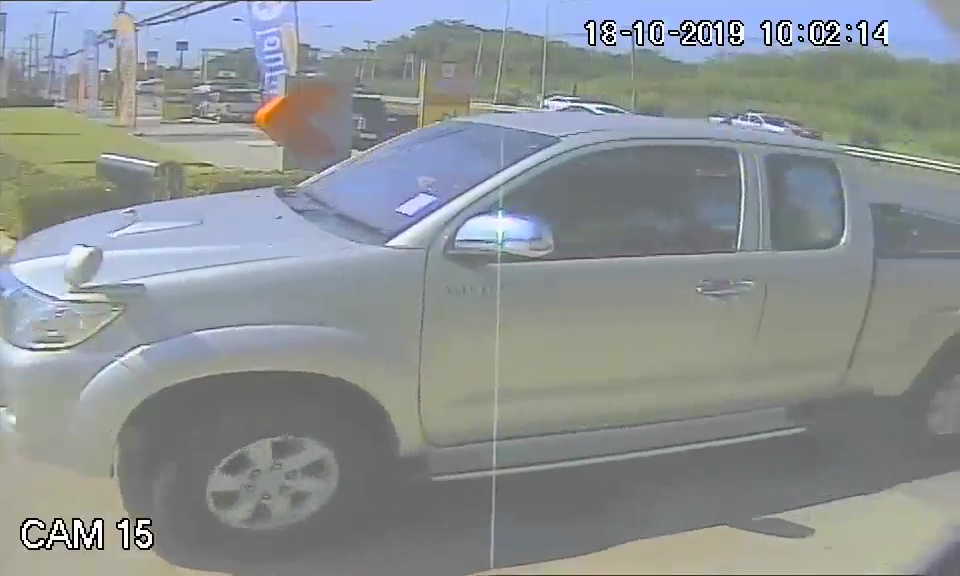pickup: (3, 104, 960, 540)
